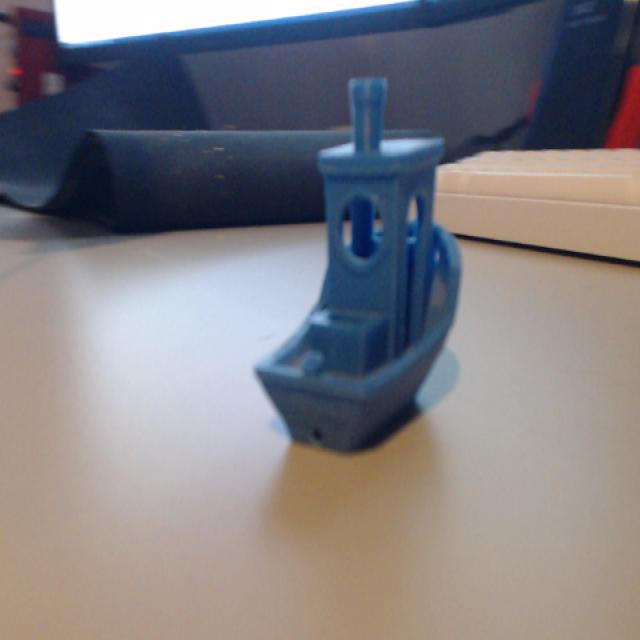benchy: (251, 72, 465, 453)
